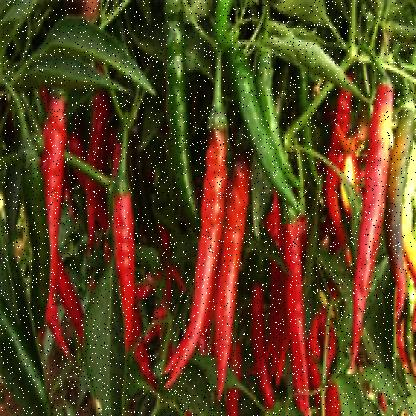chili: (339, 88, 398, 380), (166, 126, 232, 386), (275, 224, 308, 406), (41, 98, 71, 273), (111, 170, 140, 348)
